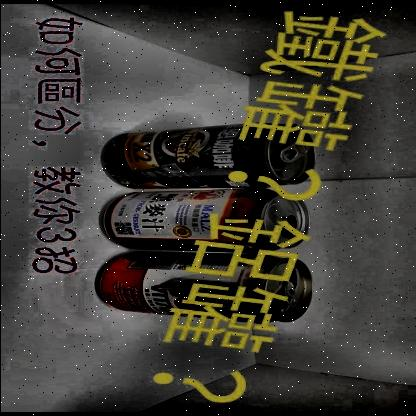Can: (92, 251, 316, 325), (98, 123, 316, 191), (96, 188, 312, 252)
